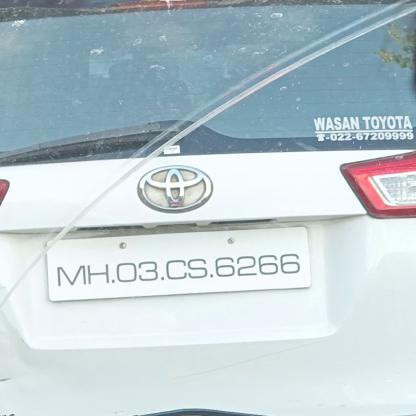license_plate: (47, 223, 312, 302)
